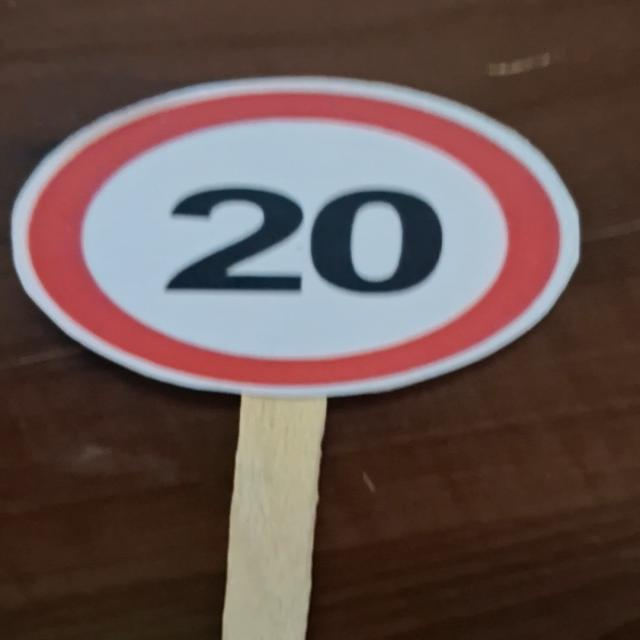Speed20: (7, 59, 601, 405)
